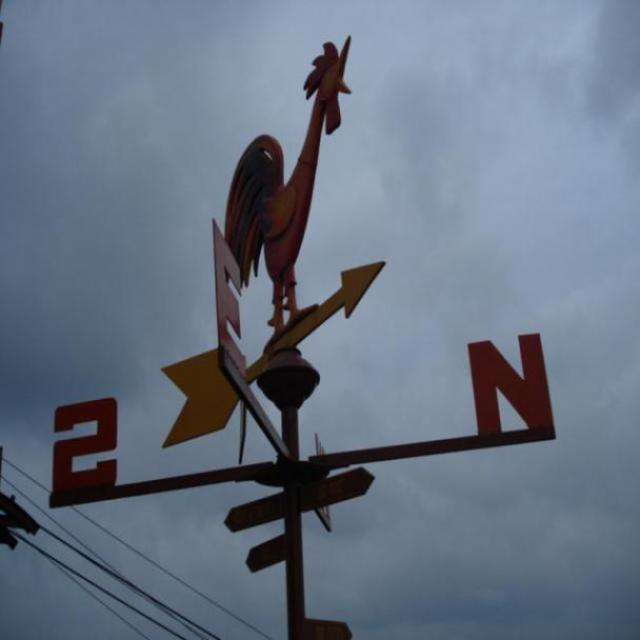Chicken: (217, 49, 341, 309)
